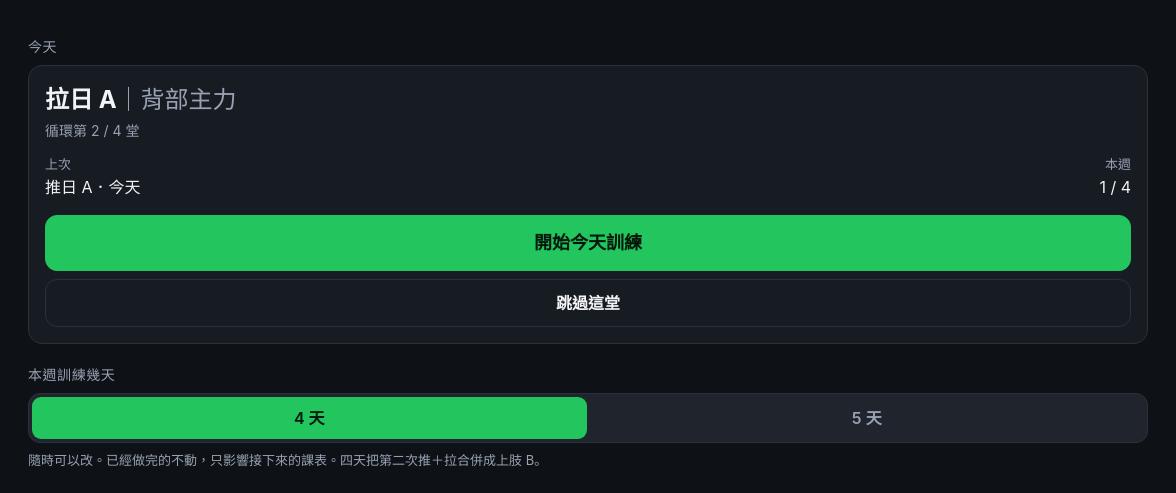
Test: App 主流程 › 第二次做推日 A 時會看到上次紀錄與加重建議
Expected: the heading "拉日 A｜背部主力" is shown, [45,85,237,114]
Click the button "跳過這堂" at (588,302), box [45,278,1131,326]
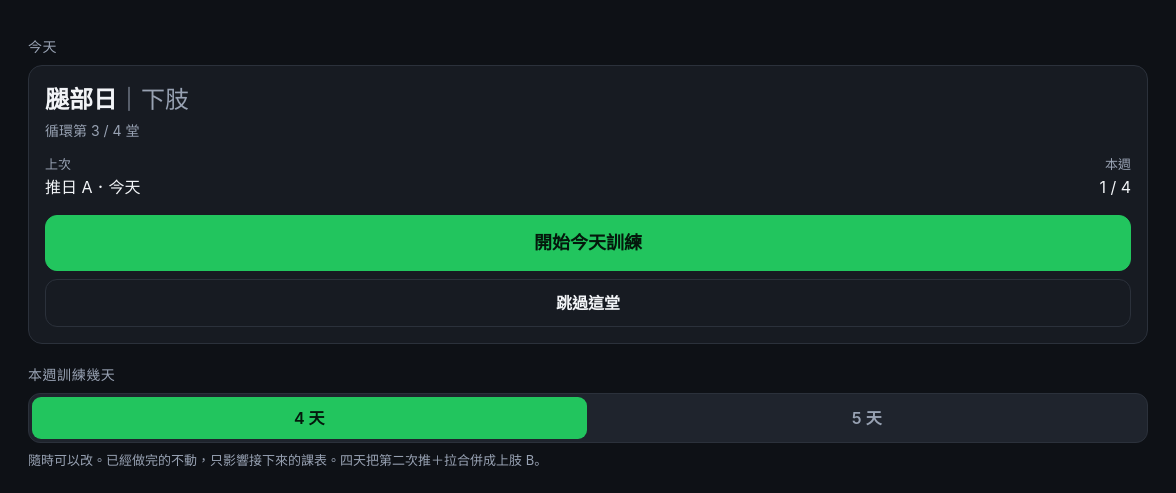
Now the heading "腿部日｜下肢" is shown, box [45,85,189,114]
Click the button "跳過這堂" at (588,302), box [45,278,1131,326]
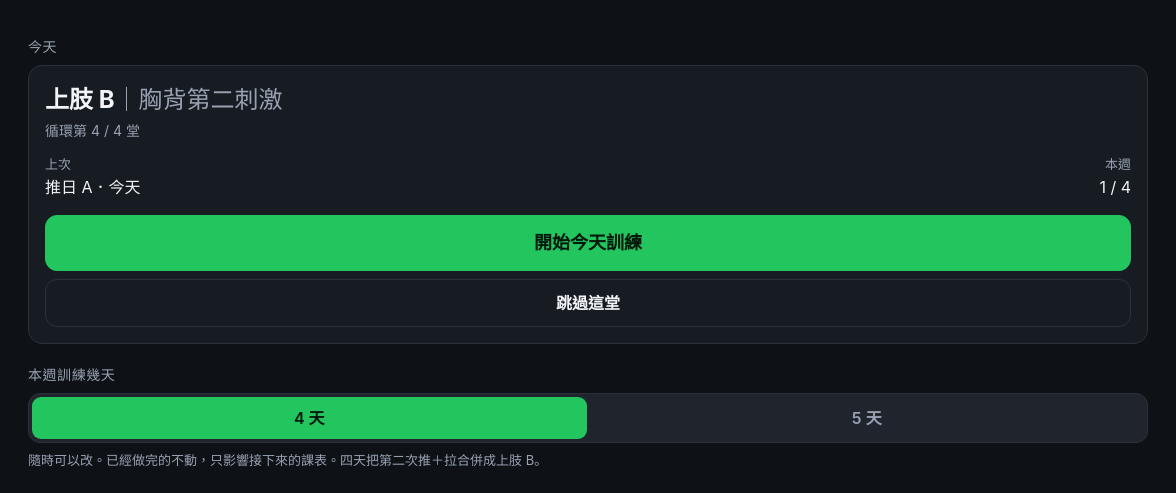
Now the heading "上肢 B｜胸背第二刺激" is shown, box [45,85,283,114]
Click the button "跳過這堂" at (588,302), box [45,278,1131,326]
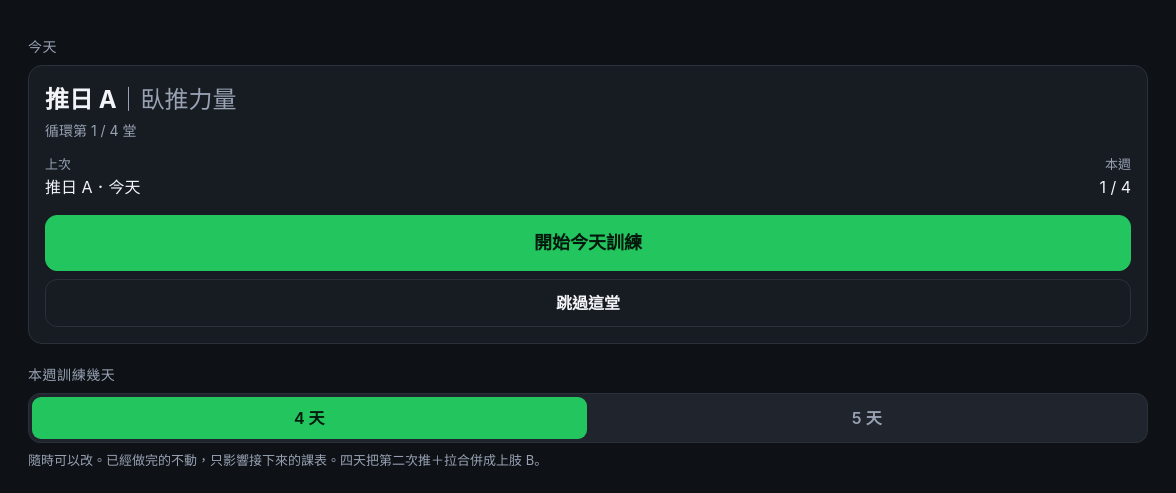
Now the heading "推日 A｜臥推力量" is shown, box [45,85,237,114]
Click the button "開始今天訓練" at (588,242), box [45,214,1131,270]
(page scrolled)
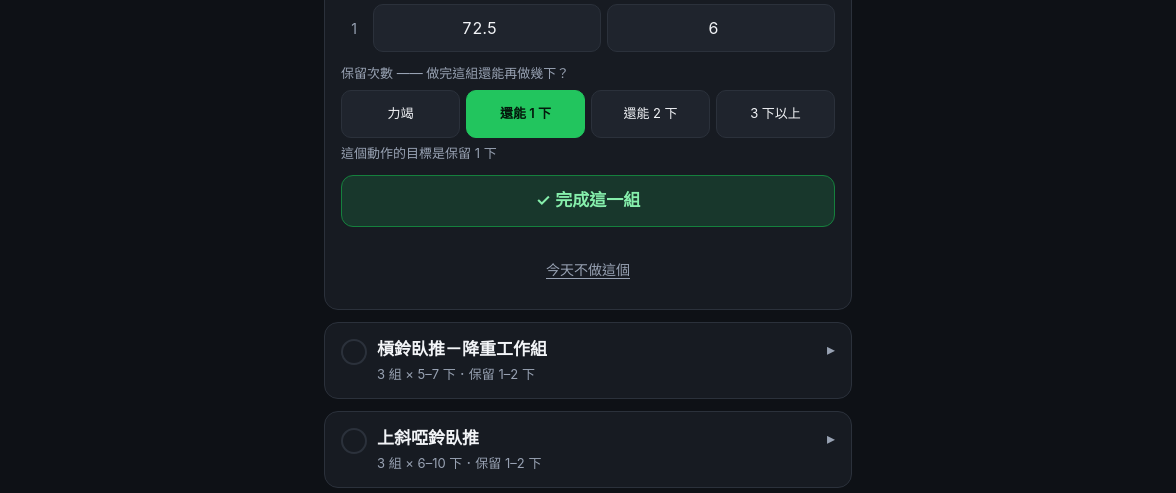
Expected: the text "約 65–67.5 kg" is not shown
Click the button "槓鈴臥推－降重工作組 3 組 × 5–7 下．保留 1–2 下 ▸" at (462,349), box [325,323,851,398]
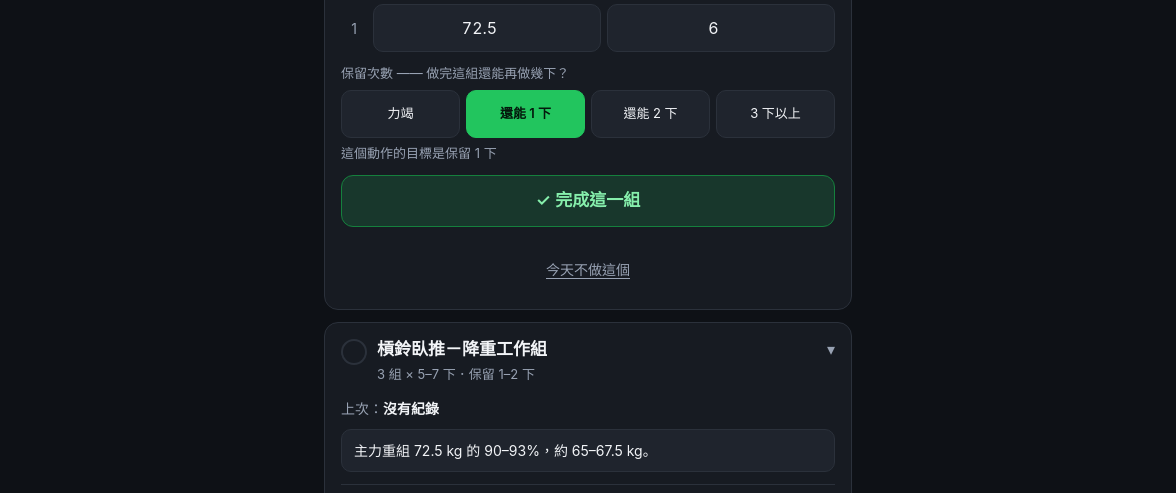
Now the text "主力重組 72.5 kg 的 90–93%，約 65–67.5 kg。" is shown, box [341,429,835,472]
